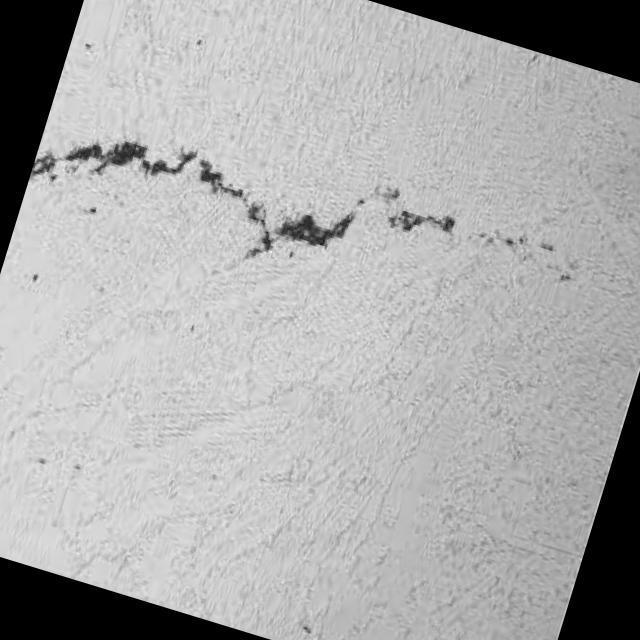defect: (37, 133, 465, 261)
